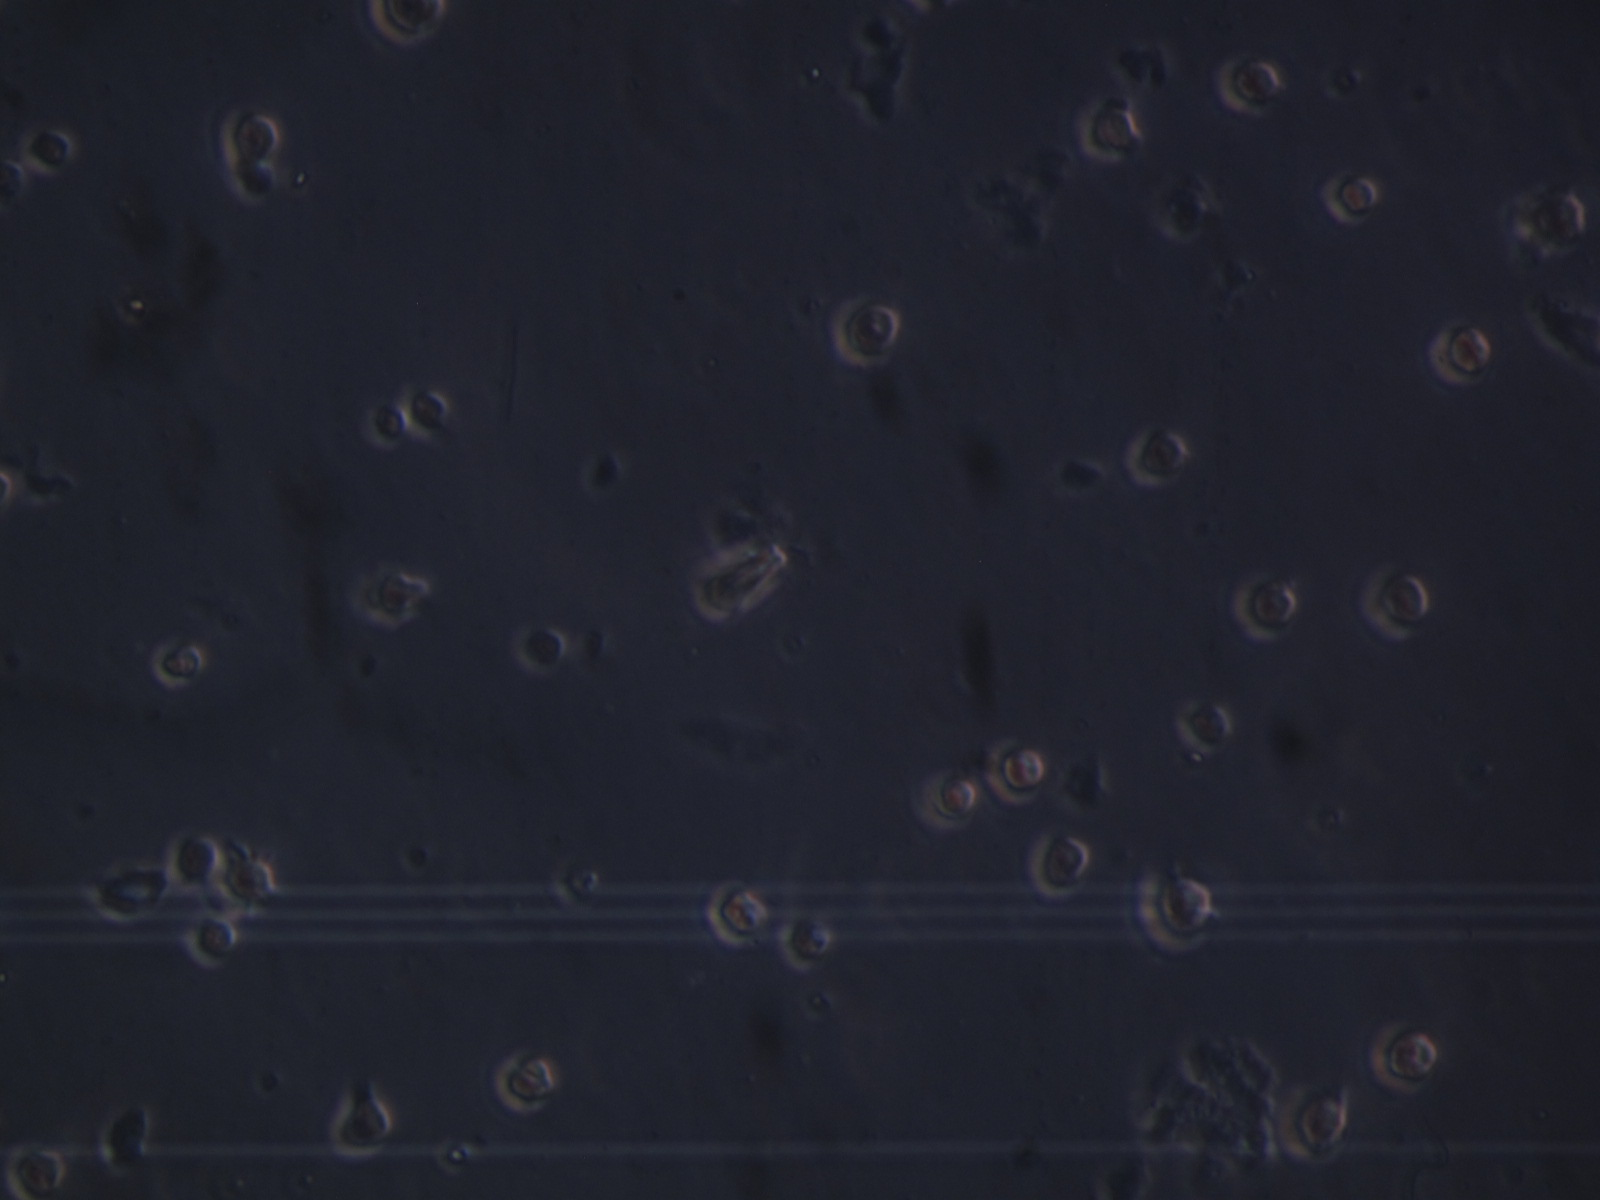hemo: (1136, 863, 1214, 958), (1276, 1083, 1349, 1166), (1357, 563, 1430, 645), (83, 863, 180, 924), (1364, 1020, 1437, 1094), (1228, 570, 1301, 644), (831, 294, 901, 369), (703, 874, 769, 947), (906, 768, 979, 833), (980, 735, 1044, 808), (1027, 829, 1091, 903), (1211, 55, 1281, 120), (1426, 321, 1493, 387), (1518, 187, 1586, 251), (493, 1050, 558, 1116), (1075, 96, 1139, 163), (329, 1097, 393, 1160), (1124, 429, 1189, 488), (163, 828, 222, 892), (363, 563, 417, 633), (368, 1, 447, 48), (4, 1142, 66, 1200), (222, 110, 281, 168), (1319, 170, 1380, 226), (101, 1105, 150, 1172), (181, 913, 239, 968), (777, 913, 831, 972), (215, 856, 278, 906), (150, 634, 207, 689), (1177, 697, 1230, 756), (397, 384, 450, 442), (553, 857, 605, 913), (519, 624, 566, 678), (21, 130, 74, 176), (227, 159, 278, 203), (368, 401, 409, 450)
